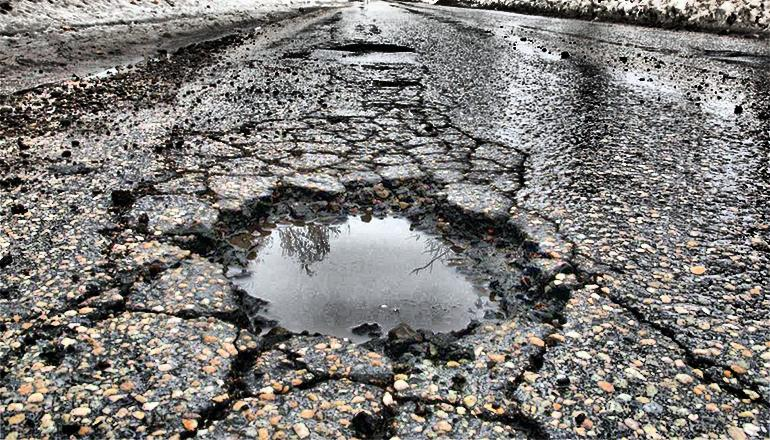pothole: (204, 171, 579, 367), (329, 36, 420, 57)
